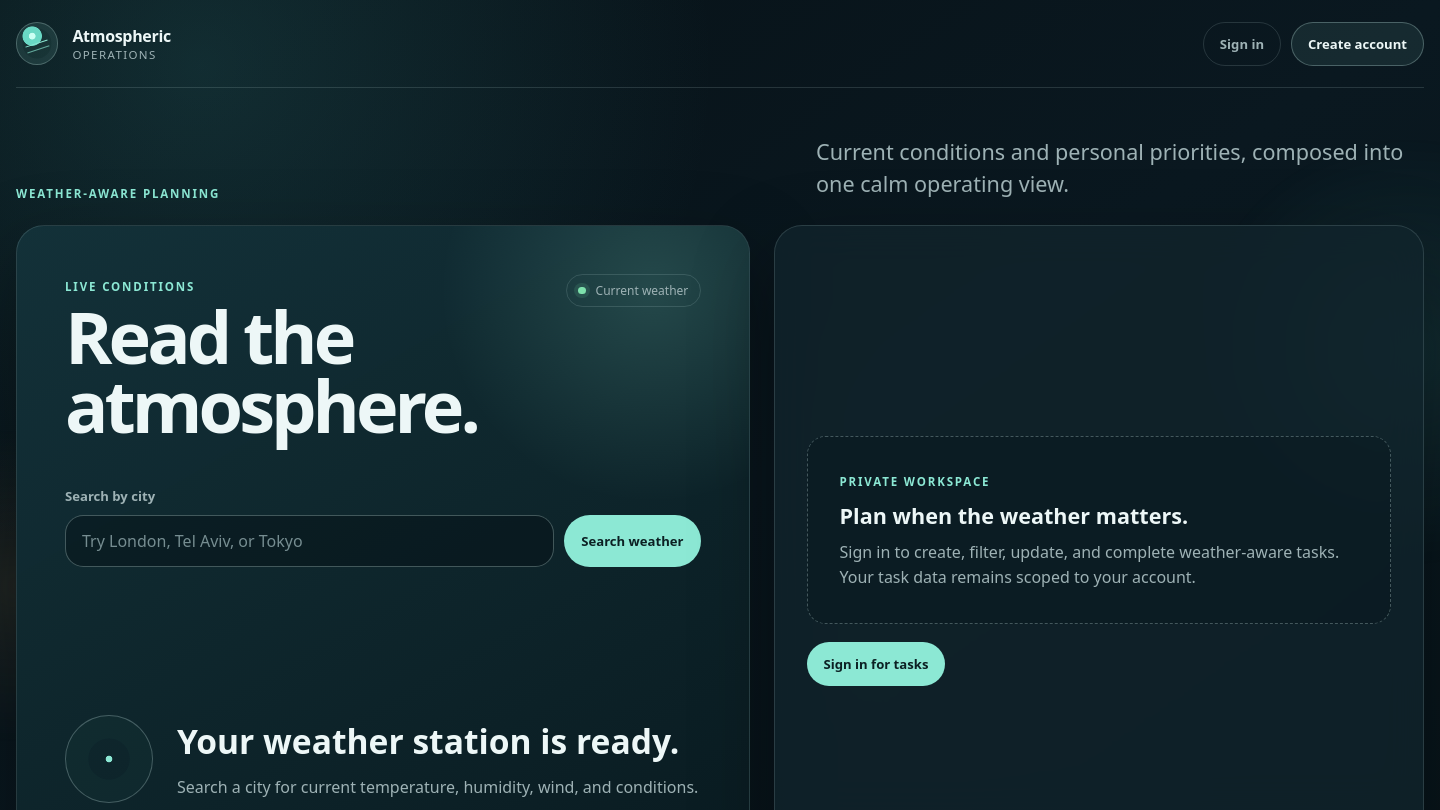
authentication flows › logs in successfully and opens the protected workspace
Click the button "Sign in" at (1242, 44), box [1203,22,1281,66]
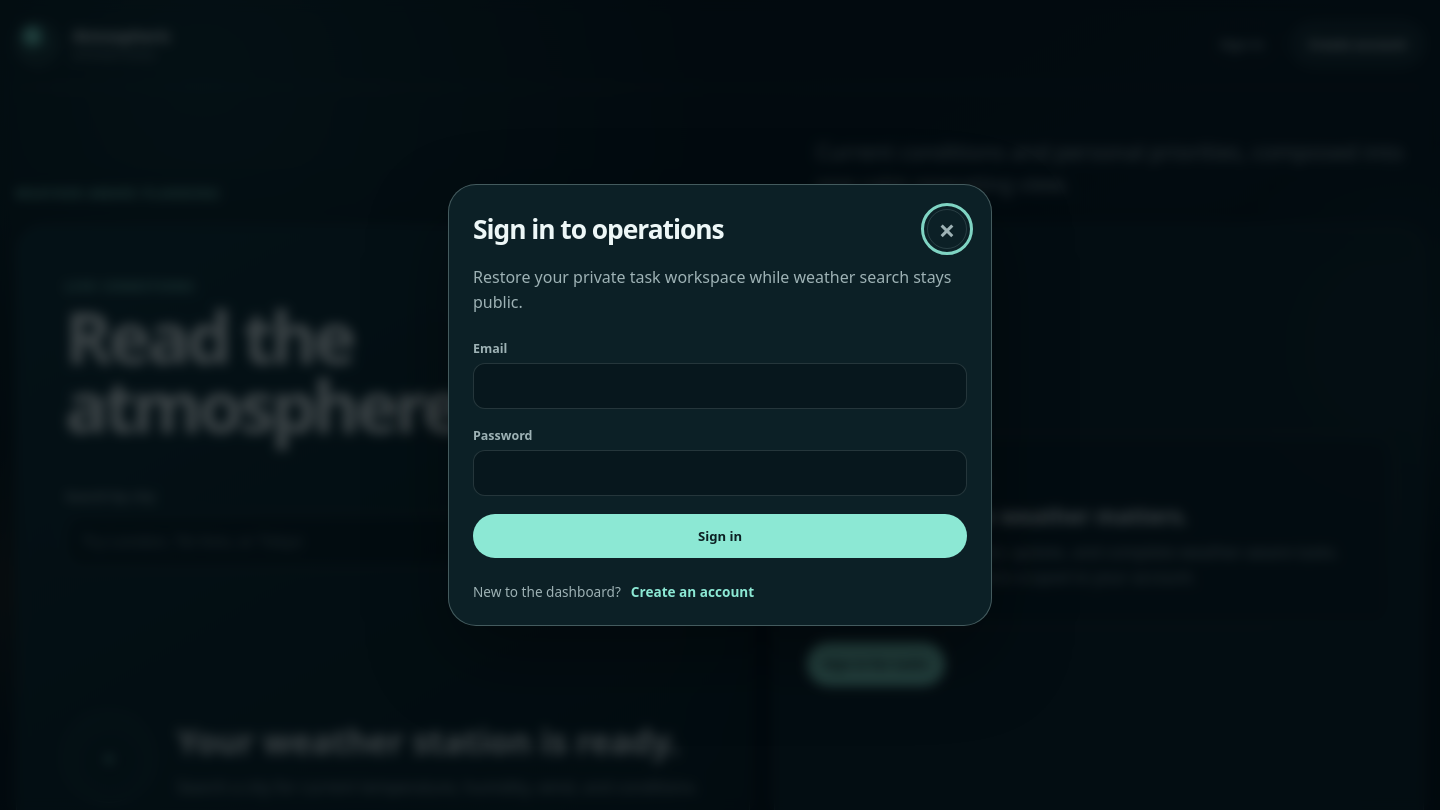
Type "pilot@example.com" into the field labelled "Email" at (720, 386), box [473,363,967,409]
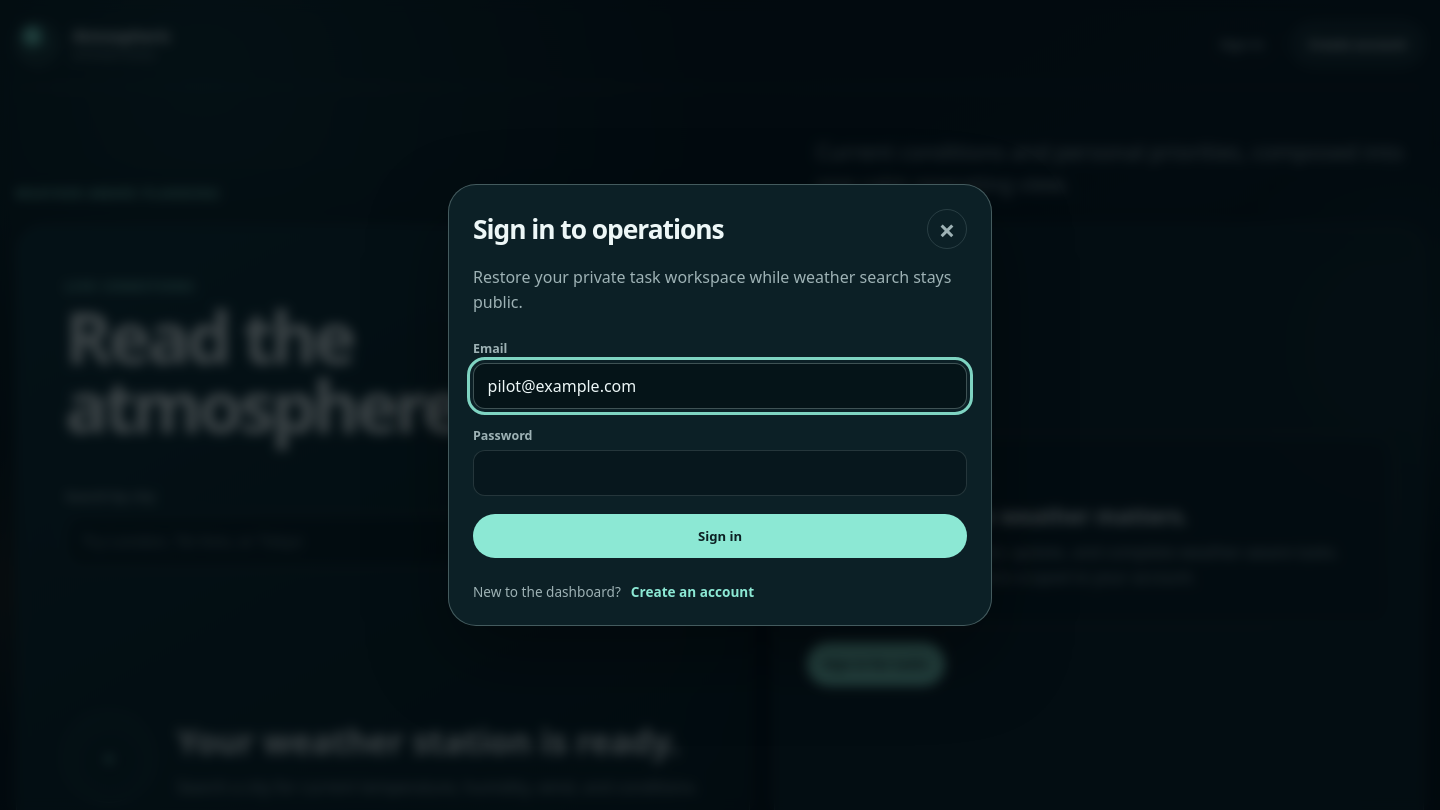
Type "StrongPassword123" into the password field labelled "Password" at (720, 473), box [473,450,967,496]
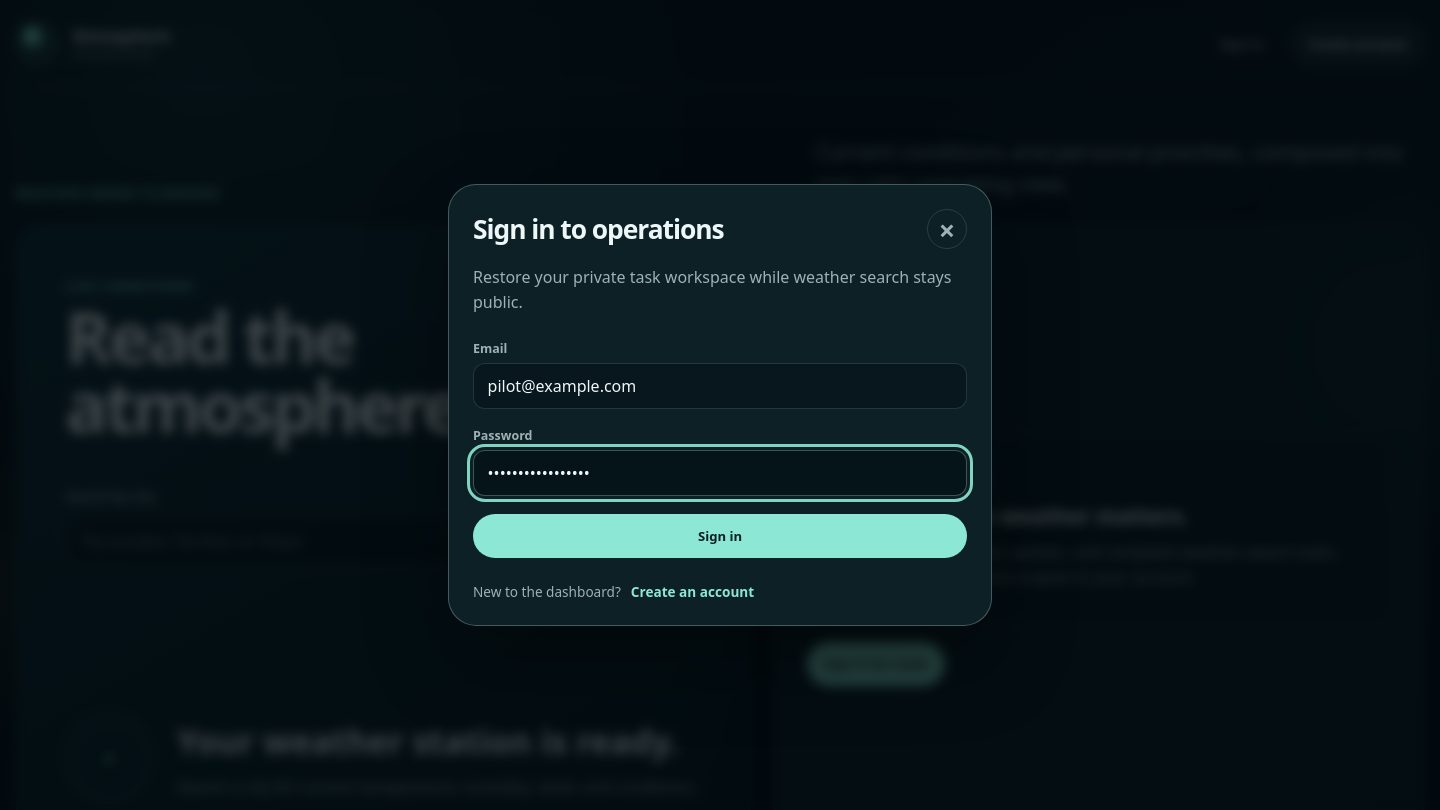
Click the button "Sign in" at (720, 536), box [473,514,967,558]
(page scrolled)
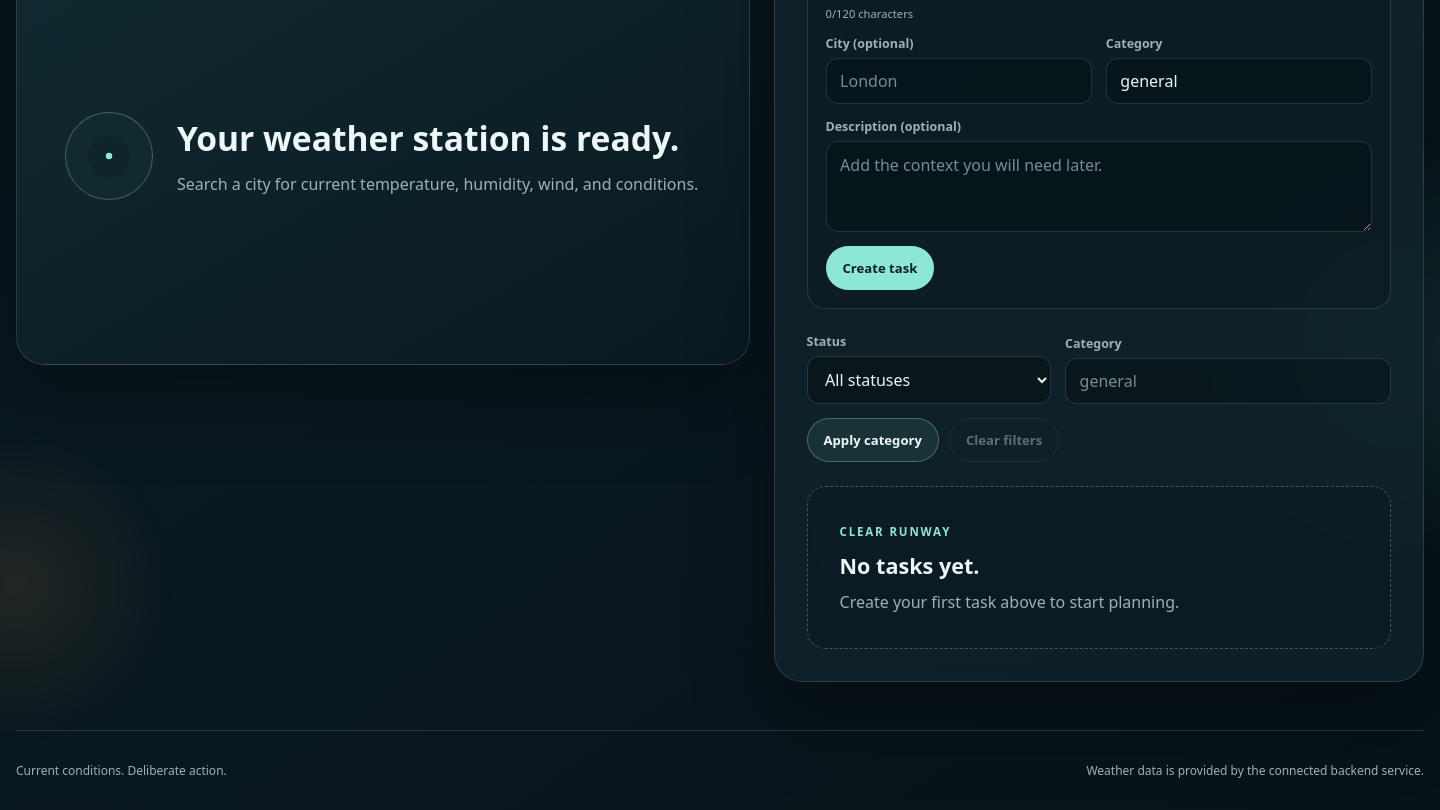
Result: the heading "No tasks yet." is shown at [840,551,980,580]
